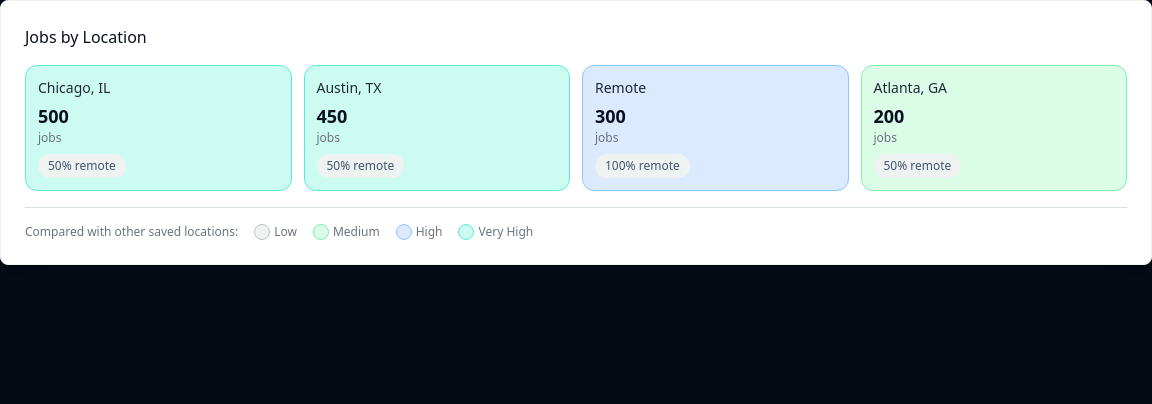
Test: LocationHeatmap › location selection › has close button that deselects location
Click the heading "Chicago, IL".
click(74, 88)  # box [38, 78, 110, 98]
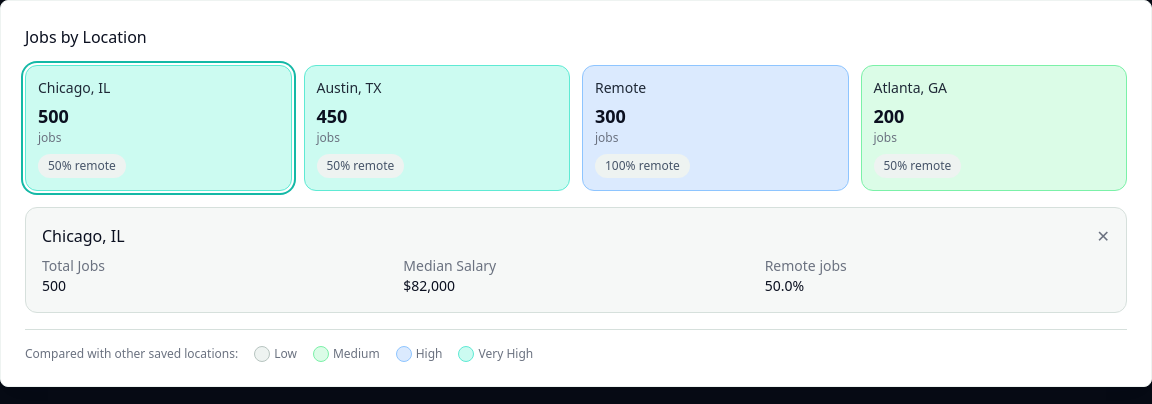
Expected: the text "Total Jobs" is shown, [42, 256, 105, 275]
Click the button named "Close location details".
click(1103, 236)  # box [1097, 224, 1110, 248]
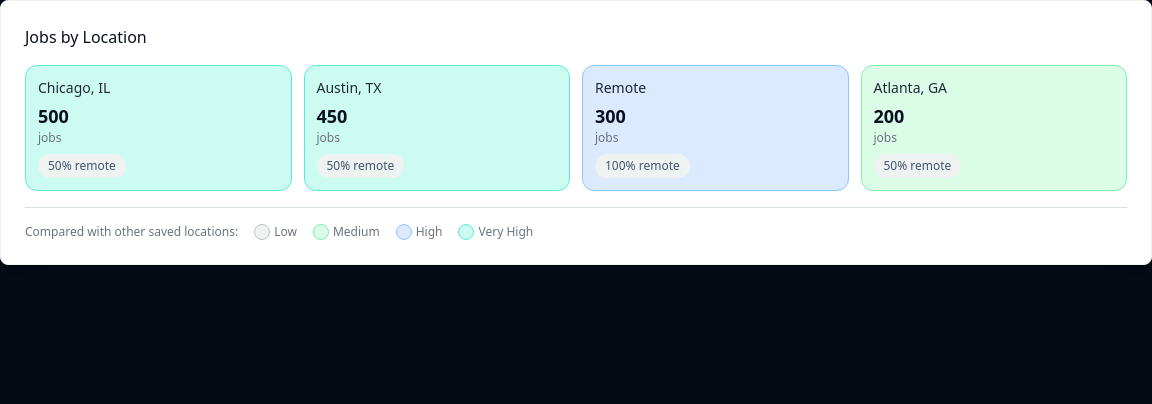
Expected: the text "Total Jobs" is gone
